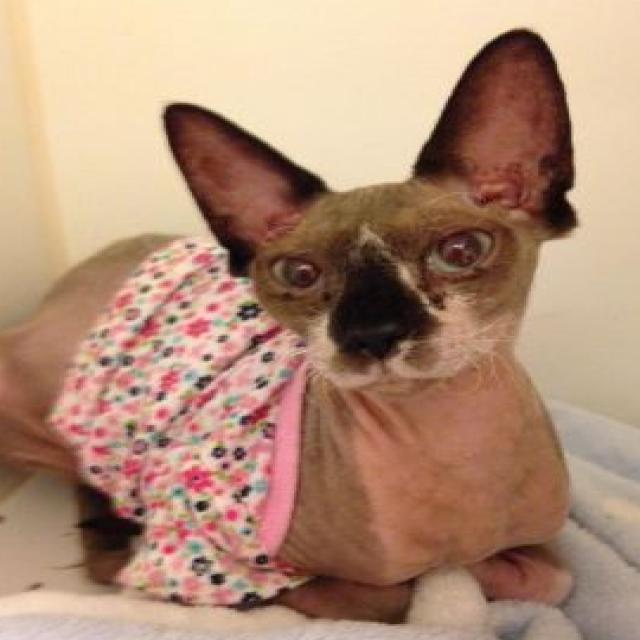Sphynx: (0, 25, 583, 622)
